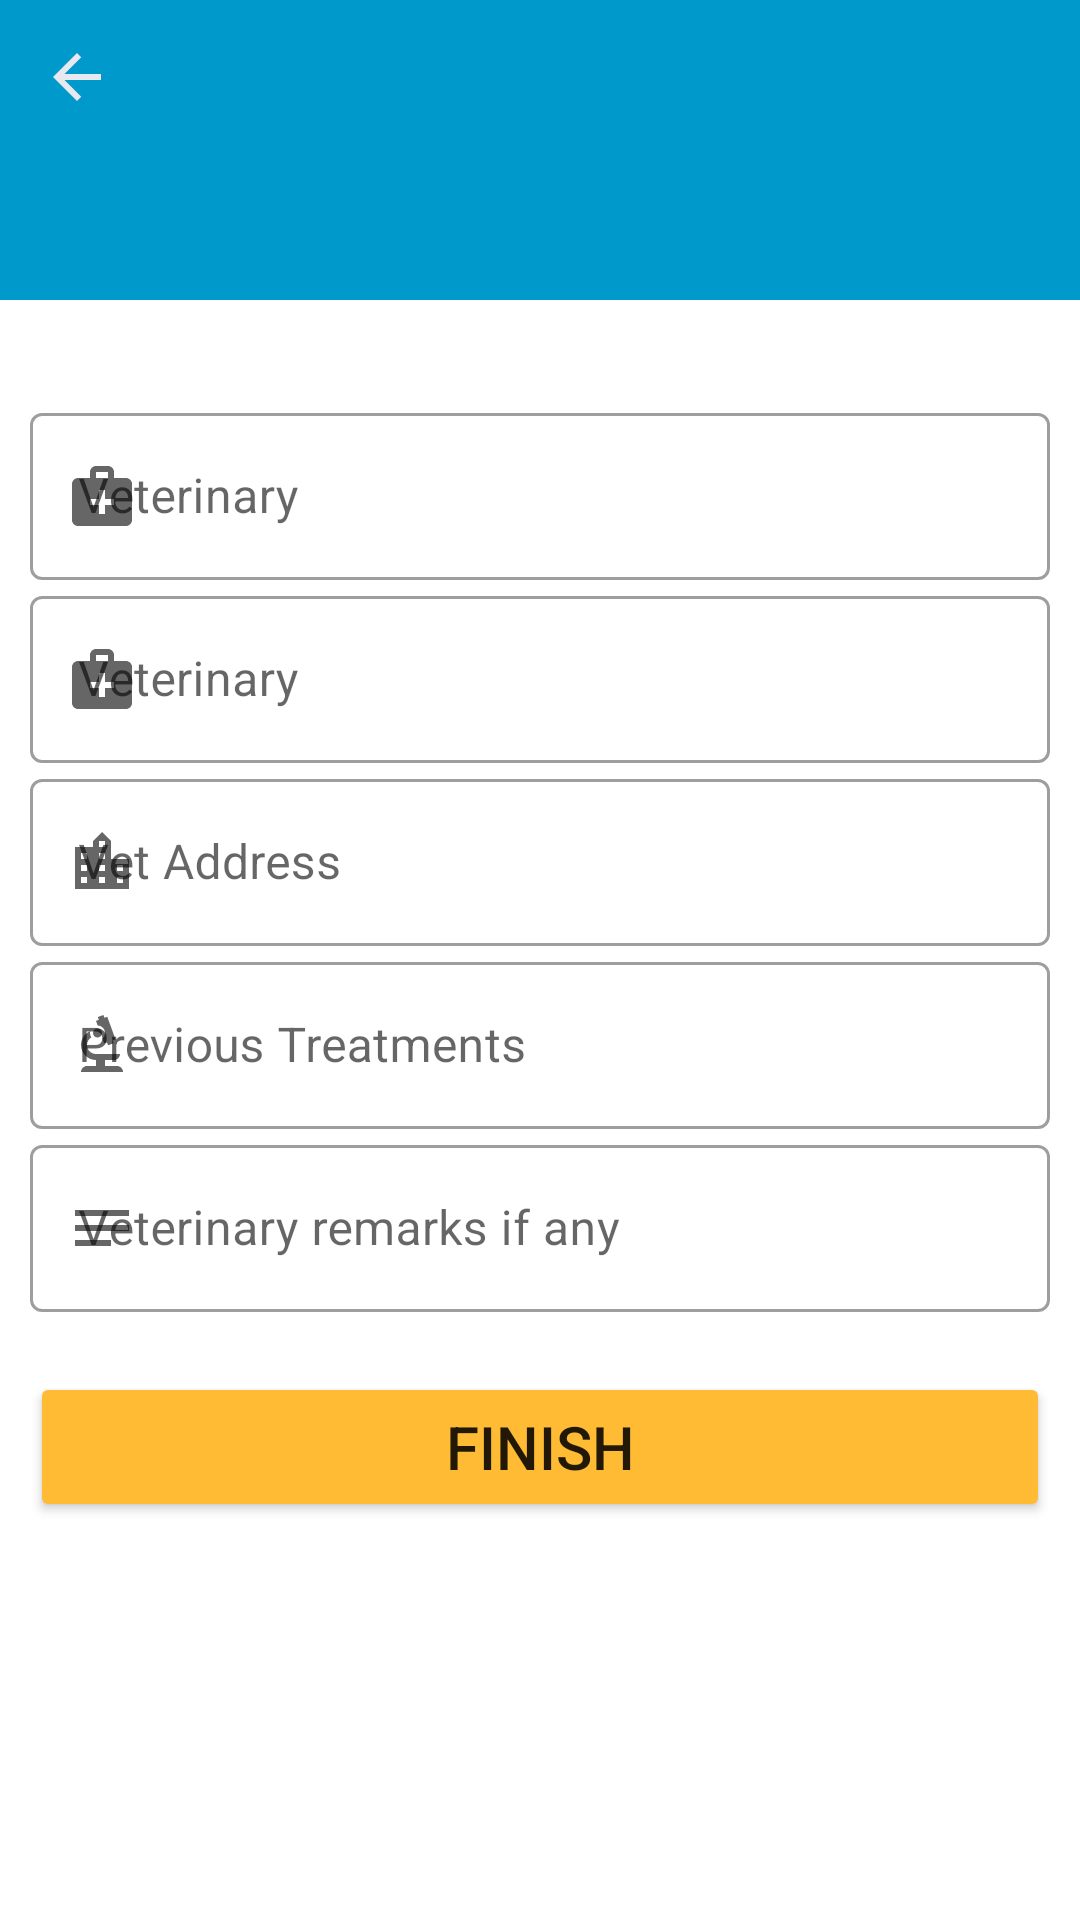

Where to tap for icons on this 1080px x 1920px app screen, as [x,y]:
arrow back: [77,77]
